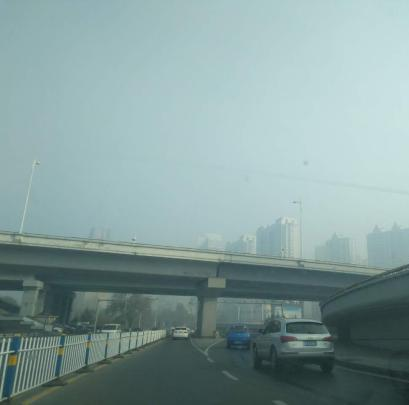car: (248, 316, 336, 375), (224, 323, 253, 351), (100, 322, 123, 344), (171, 325, 190, 340)
